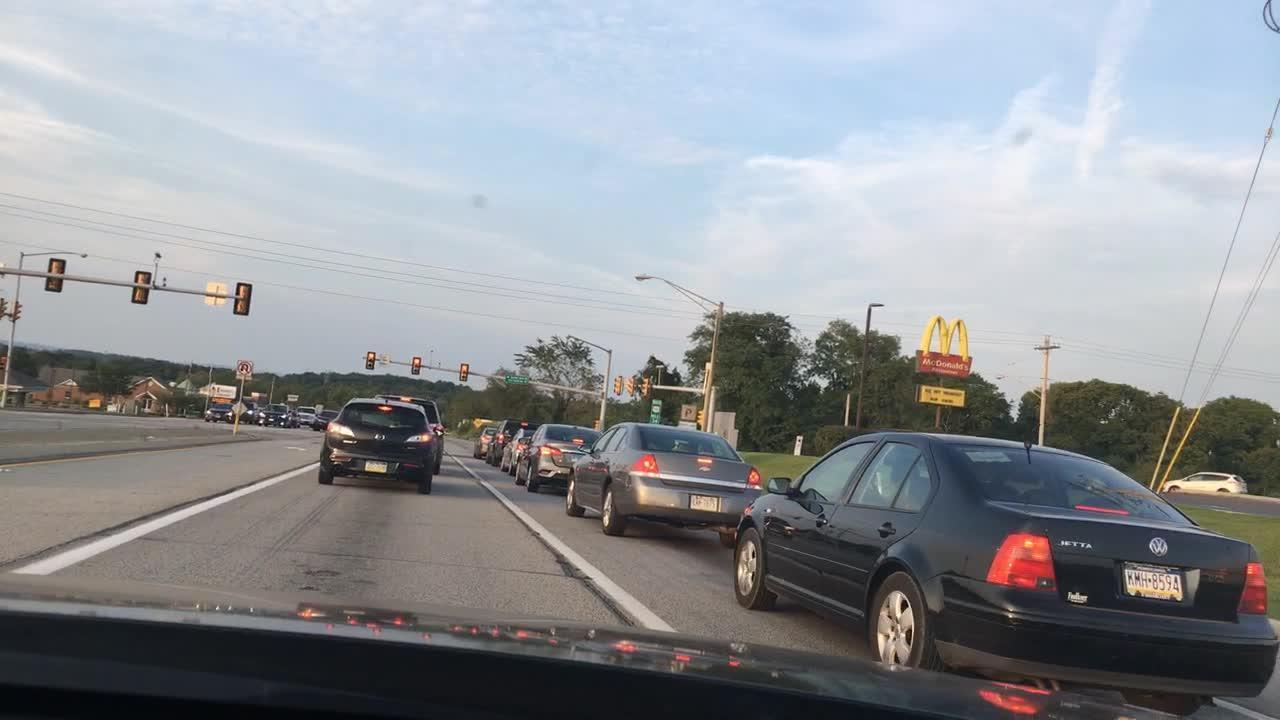Volkswagen: (1139, 529, 1177, 560)
